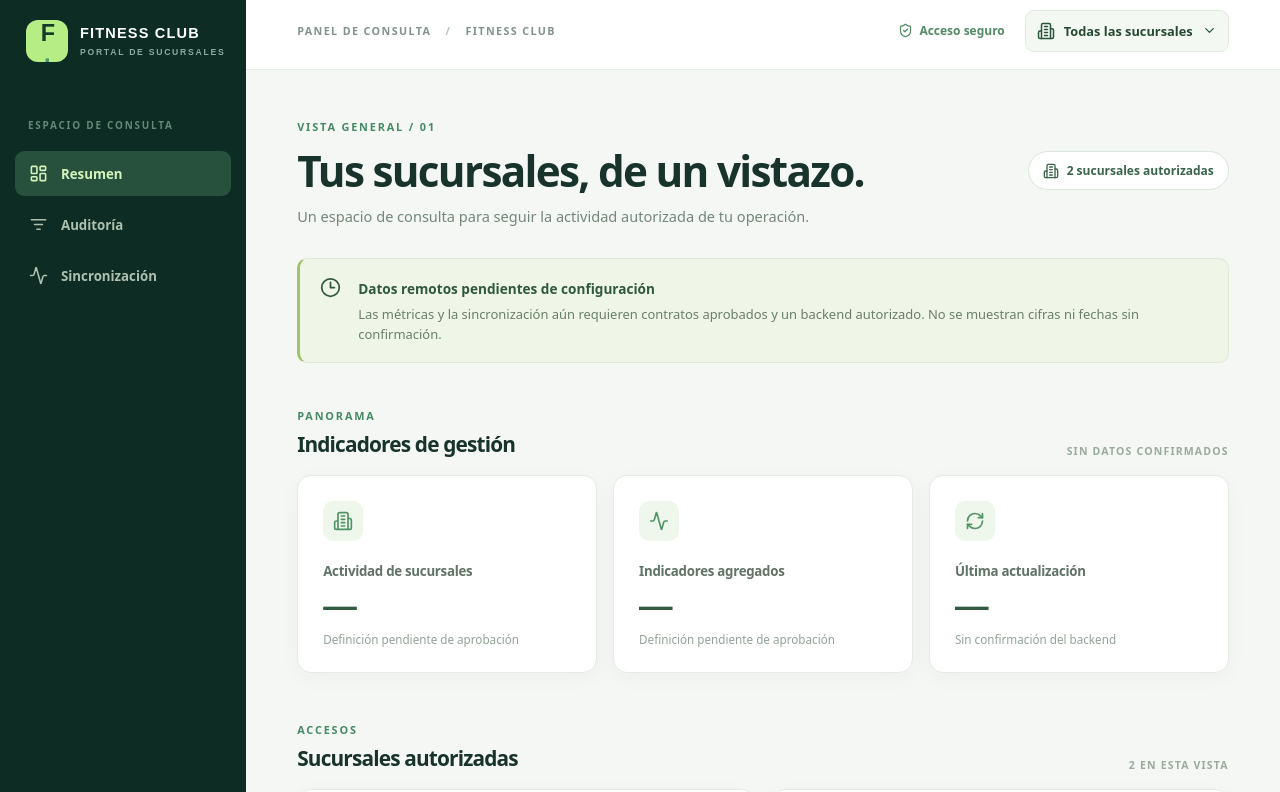
Test: sucursales y estado › muestra A+B autorizadas y permite filtrar sin seleccionar sucursal ajena
Expected: the text "2 sucursales autorizadas" is shown, [1028,152,1229,190]
Step 1. Select "Sucursal Norte" in the dropdown named "Seleccionar sucursal" → (1128, 30), box [1064,10,1193,50]
(page scrolled)
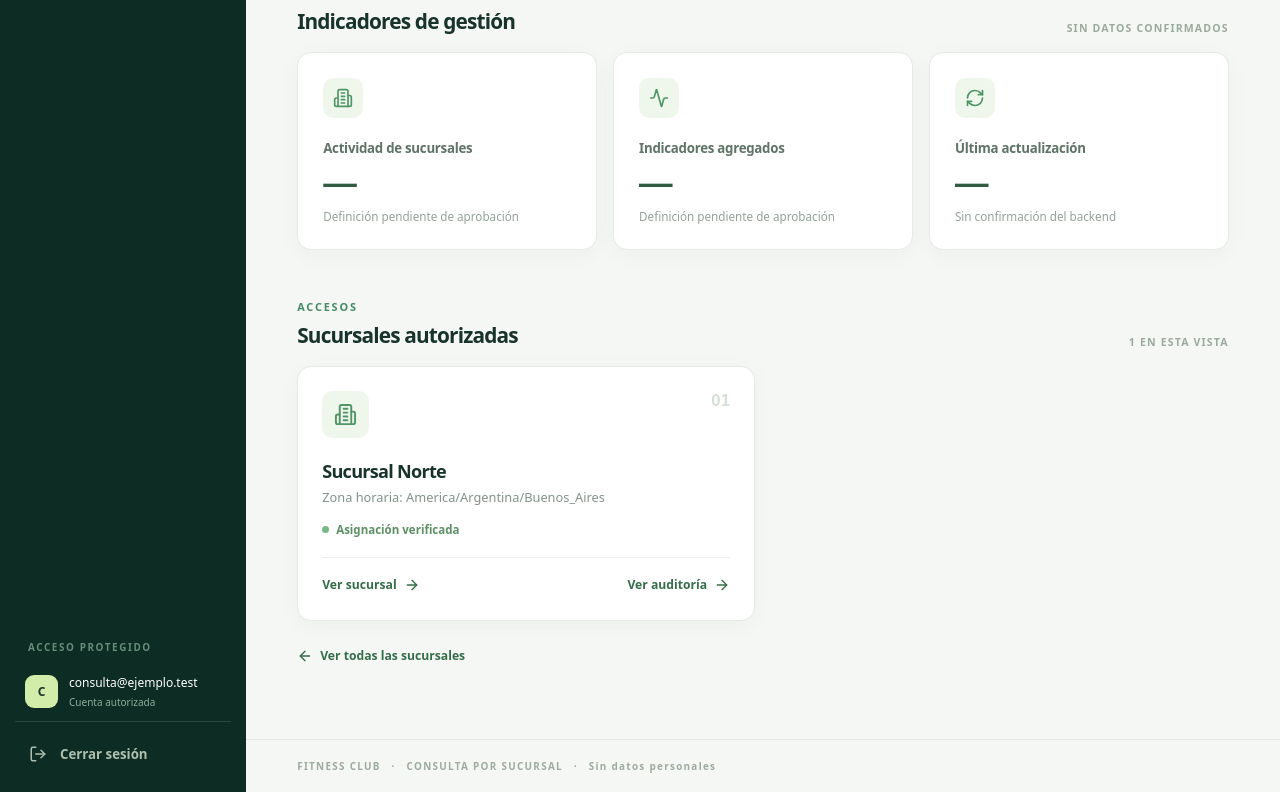
Expected: the heading "Sucursal Sur" is not shown
Step 2. Click the button "Ver todas las sucursales" → (381, 656), box [297,644,465,667]
(page scrolled)
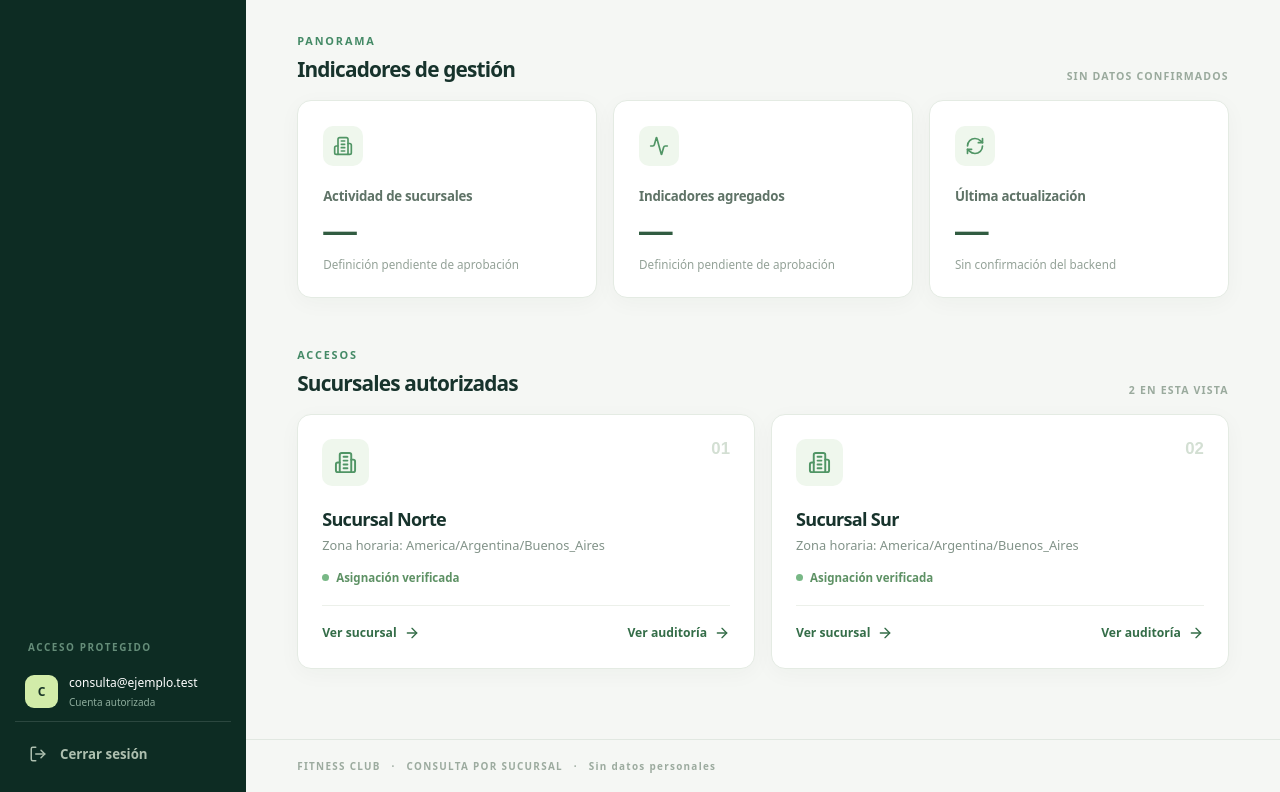
Now the heading "Sucursal Sur" is shown, box [796,507,899,531]
